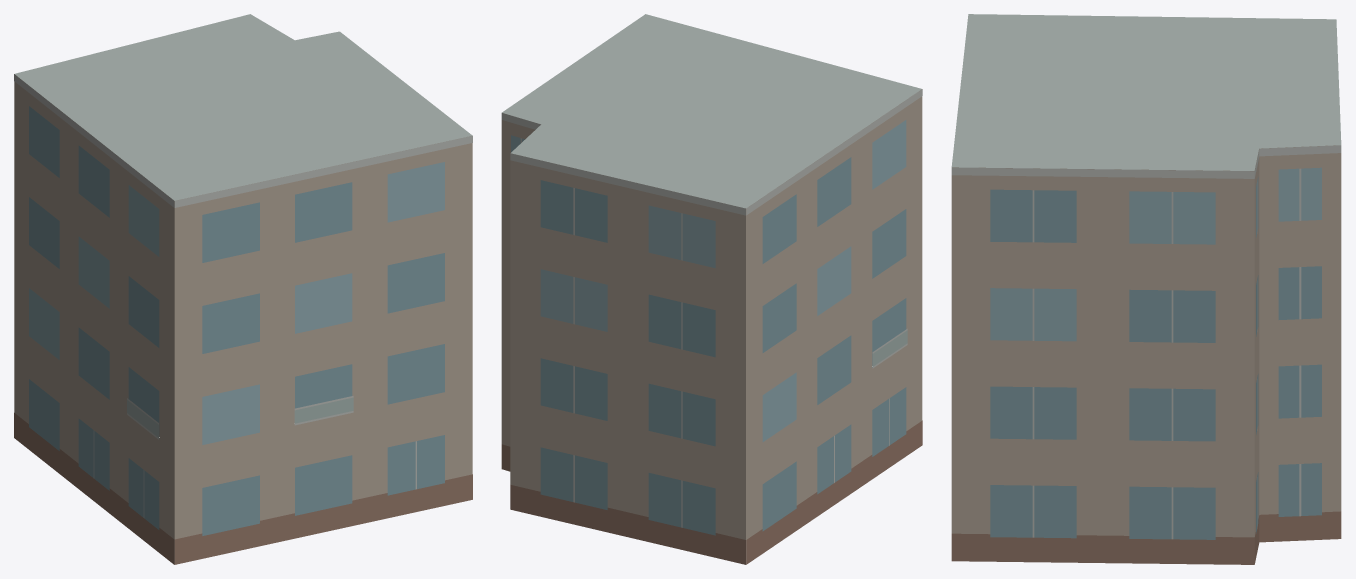
File: survey-upis-32970589.glb
The picture shows the model from 3 angles, left to right: view 1: azimuth 30°, elevation 25°; view 2: azimuth 150°, elevation 25°; view 3: azimuth 270°, elevation 25°; orthographic projection. The views are drawn at different scales.
Parts seen in each view (by area): view 1: survey-upis-32970589.tmp; view 2: survey-upis-32970589.tmp; view 3: survey-upis-32970589.tmp.
Part boxes in pixels (x1=…): survey-upis-32970589.tmp: x1=14, y1=14, x2=472, y2=564; survey-upis-32970589.tmp: x1=501, y1=14, x2=922, y2=564; survey-upis-32970589.tmp: x1=951, y1=14, x2=1341, y2=564.
Bounding box in the file's own units: 10.45 × 12.2 × 10.96.
